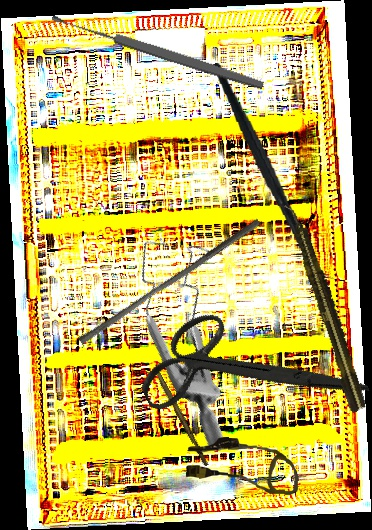Cannula: (185, 436, 300, 495)
Chopper: (212, 53, 335, 292)
Handpiece: (281, 200, 370, 414)
Iris Scissors: (123, 261, 371, 483)
Pusher: (77, 211, 262, 351)
Scalpel Handle: (152, 370, 211, 467)
Speculum: (74, 214, 314, 453)
Surgical Spoon: (50, 11, 265, 92)
